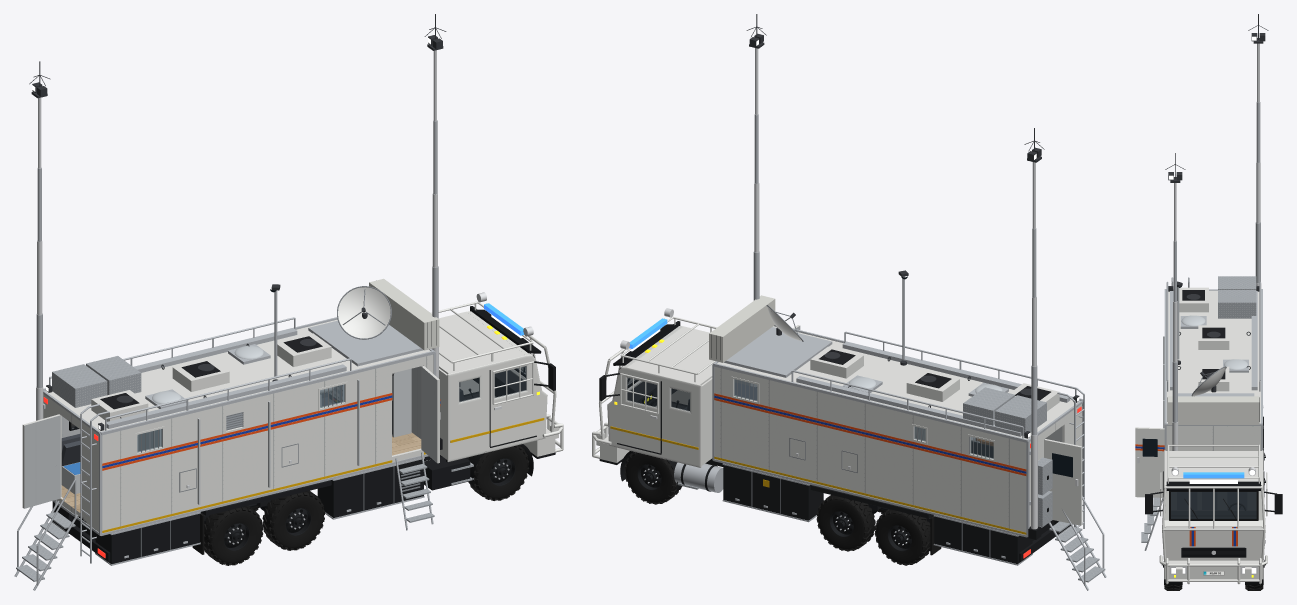
Rendered from kshm2_deployed.glb.
3 views of the same model, side by side, from view 1: azimuth 30°, elevation 25°; view 2: azimuth 150°, elevation 25°; view 3: azimuth 270°, elevation 25° (orthographic). The views are drawn at different scales.
Visible parts, largest first — view 1: n112, n750, n740, n996, n763, n322, n831, n726, n120, n352, n1060, n1071 (+30 smaller); view 2: n691, n111, n996, n681, n309, n1060, n667, n120, n342, n1071, n831, n704 (+23 smaller); view 3: n996, n1071, n114, n120, n124, n816, n790, n191, n1054, n153, n122, n1043 (+38 smaller).
Boxes of the visible parts, bbox=[...] form: n112: bbox=[447, 354, 547, 461]; n750: bbox=[242, 382, 319, 497]; n740: bbox=[161, 405, 226, 517]; n996: bbox=[46, 320, 430, 431]; n763: bbox=[344, 364, 391, 473]; n322: bbox=[317, 459, 423, 517]; n831: bbox=[22, 414, 60, 508]; n726: bbox=[102, 427, 136, 533]; n120: bbox=[439, 312, 525, 373]; n352: bbox=[95, 513, 199, 564]; n1060: bbox=[308, 320, 423, 366]; n1071: bbox=[369, 278, 439, 350]; n691: bbox=[757, 377, 914, 506]; n111: bbox=[607, 366, 701, 467]; n996: bbox=[718, 326, 1081, 441]; n681: bbox=[925, 418, 971, 519]; n309: bbox=[723, 465, 823, 520]; n1060: bbox=[724, 327, 832, 377]; n667: bbox=[993, 435, 1026, 533]; n120: bbox=[628, 326, 715, 384]; n342: bbox=[934, 516, 1032, 563]; n1071: bbox=[709, 295, 775, 362]; n831: bbox=[1044, 439, 1082, 525]; n704: bbox=[714, 367, 734, 462]; n996: bbox=[1167, 291, 1259, 422]; n1071: bbox=[1168, 396, 1259, 424]; n114: bbox=[1165, 527, 1262, 560]; n120: bbox=[1164, 451, 1262, 481]; n124: bbox=[1171, 492, 1256, 518]; n816: bbox=[1167, 426, 1259, 450]; n790: bbox=[1135, 427, 1164, 497]; n191: bbox=[1164, 560, 1263, 579]; n1054: bbox=[1218, 290, 1256, 318]; n153: bbox=[1166, 481, 1260, 490]; n122: bbox=[1171, 492, 1256, 510]; n1043: bbox=[1198, 325, 1229, 349].
Bounding box in the file's own units: 12.02 × 11.17 × 3.64.
Materials: 282 (51 with a texture image).
